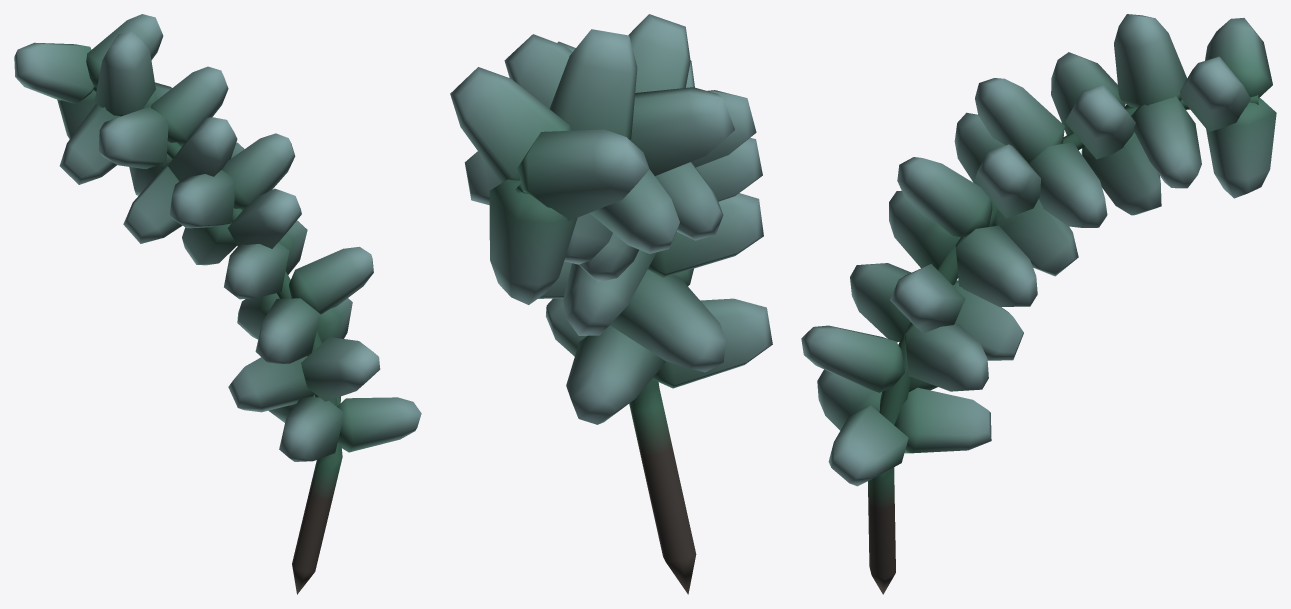
The model's file is plants-cacti-succulents-burro-s-tail_v3.glb.
3 renders of one model, left to right at view 1: azimuth 30°, elevation 25°; view 2: azimuth 150°, elevation 25°; view 3: azimuth 270°, elevation 25°, orthographic. The views are drawn at different scales.
Visible parts, largest first — view 1: Burro's Tail_v3; view 2: Burro's Tail_v3; view 3: Burro's Tail_v3.
Part boxes in pixels (x1,y1,x2,y2): Burro's Tail_v3: [14, 14, 421, 594]; Burro's Tail_v3: [450, 14, 772, 594]; Burro's Tail_v3: [801, 14, 1276, 594].
Bounding box in the file's own units: 0.1512 × 0.3 × 0.2348.
